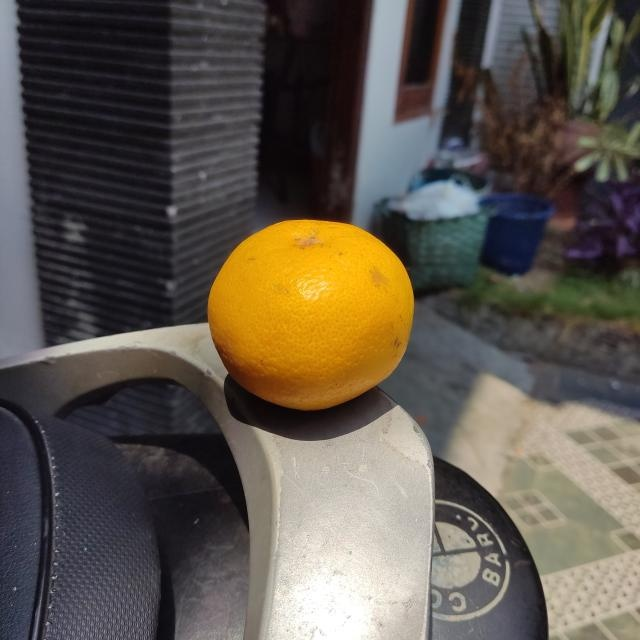agrume: (201, 218, 415, 414)
